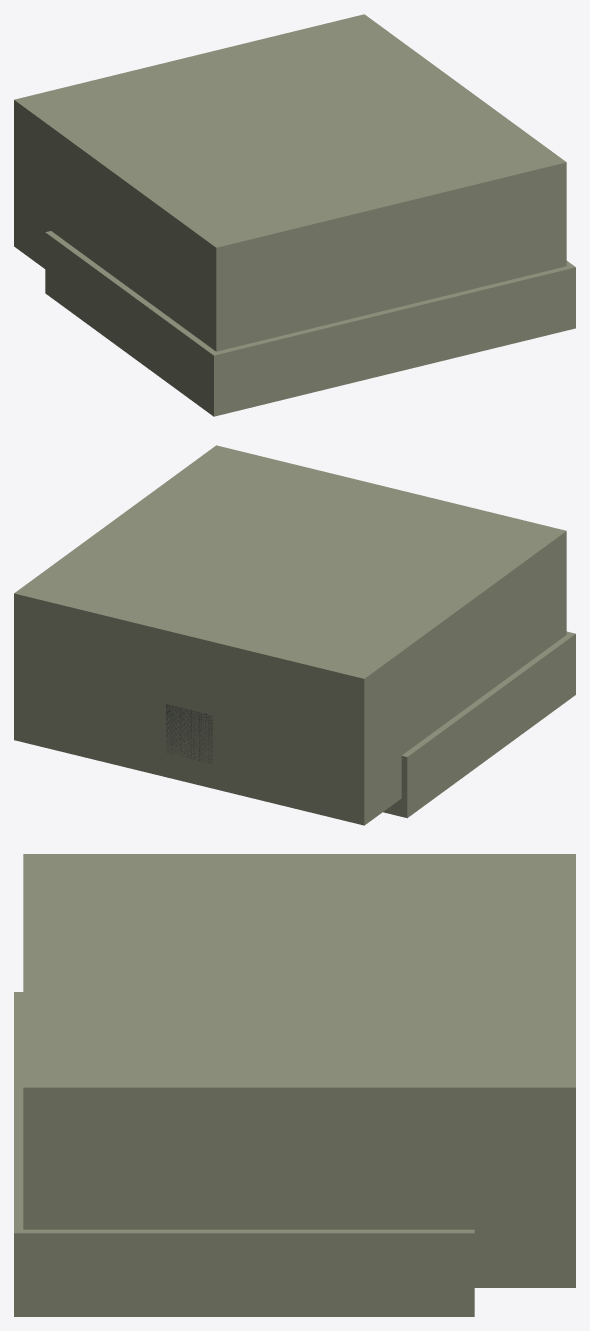
The model's file is combat_helmet.glb.
3 views of the same model, one above another, from view 1: azimuth 30°, elevation 25°; view 2: azimuth 150°, elevation 25°; view 3: azimuth 270°, elevation 25° (orthographic). The views are drawn at different scales.
Visible parts, largest first — view 1: head; view 2: head; view 3: head.
Part boxes in pixels (x1,y1,x2,y2): head: (14, 14, 575, 416); head: (14, 445, 575, 825); head: (14, 854, 575, 1316).
Bounding box in the file's own units: 0.62 × 0.27 × 0.61.
